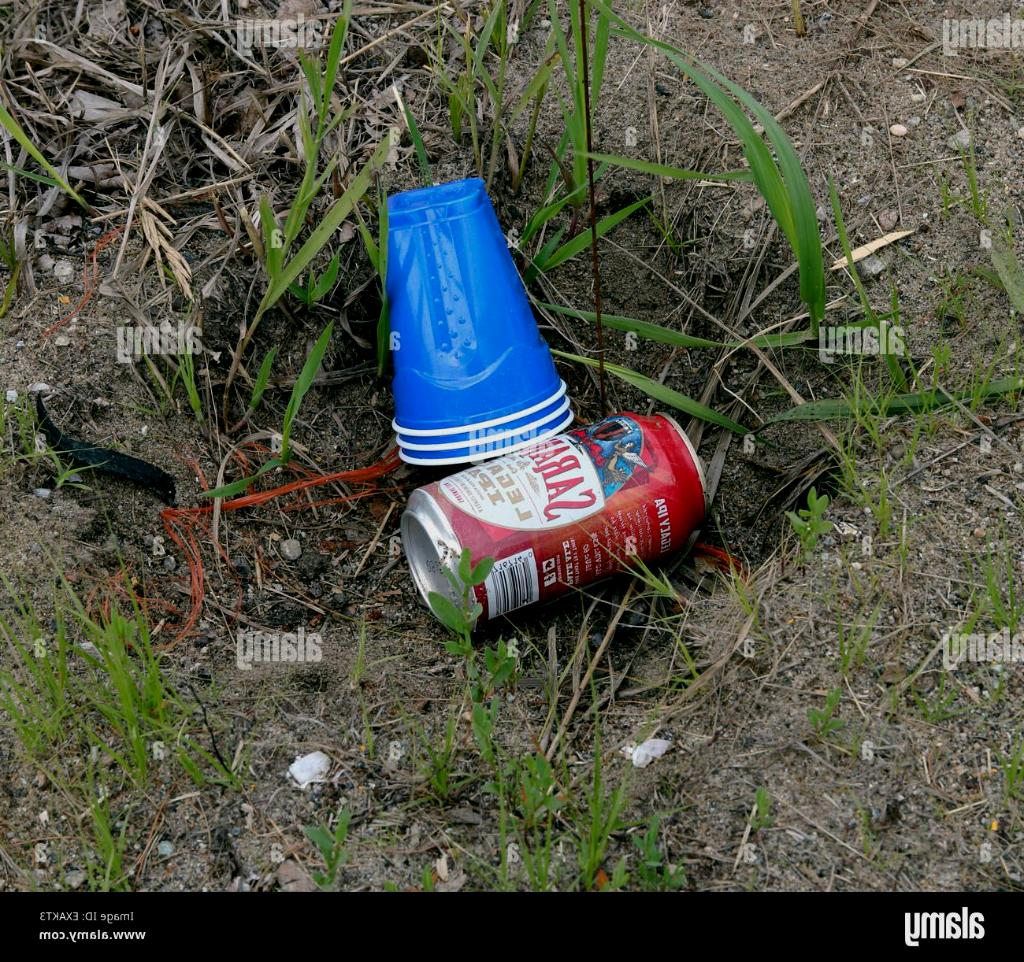garbage: (389, 392, 725, 656), (399, 412, 709, 633), (388, 177, 570, 489)
